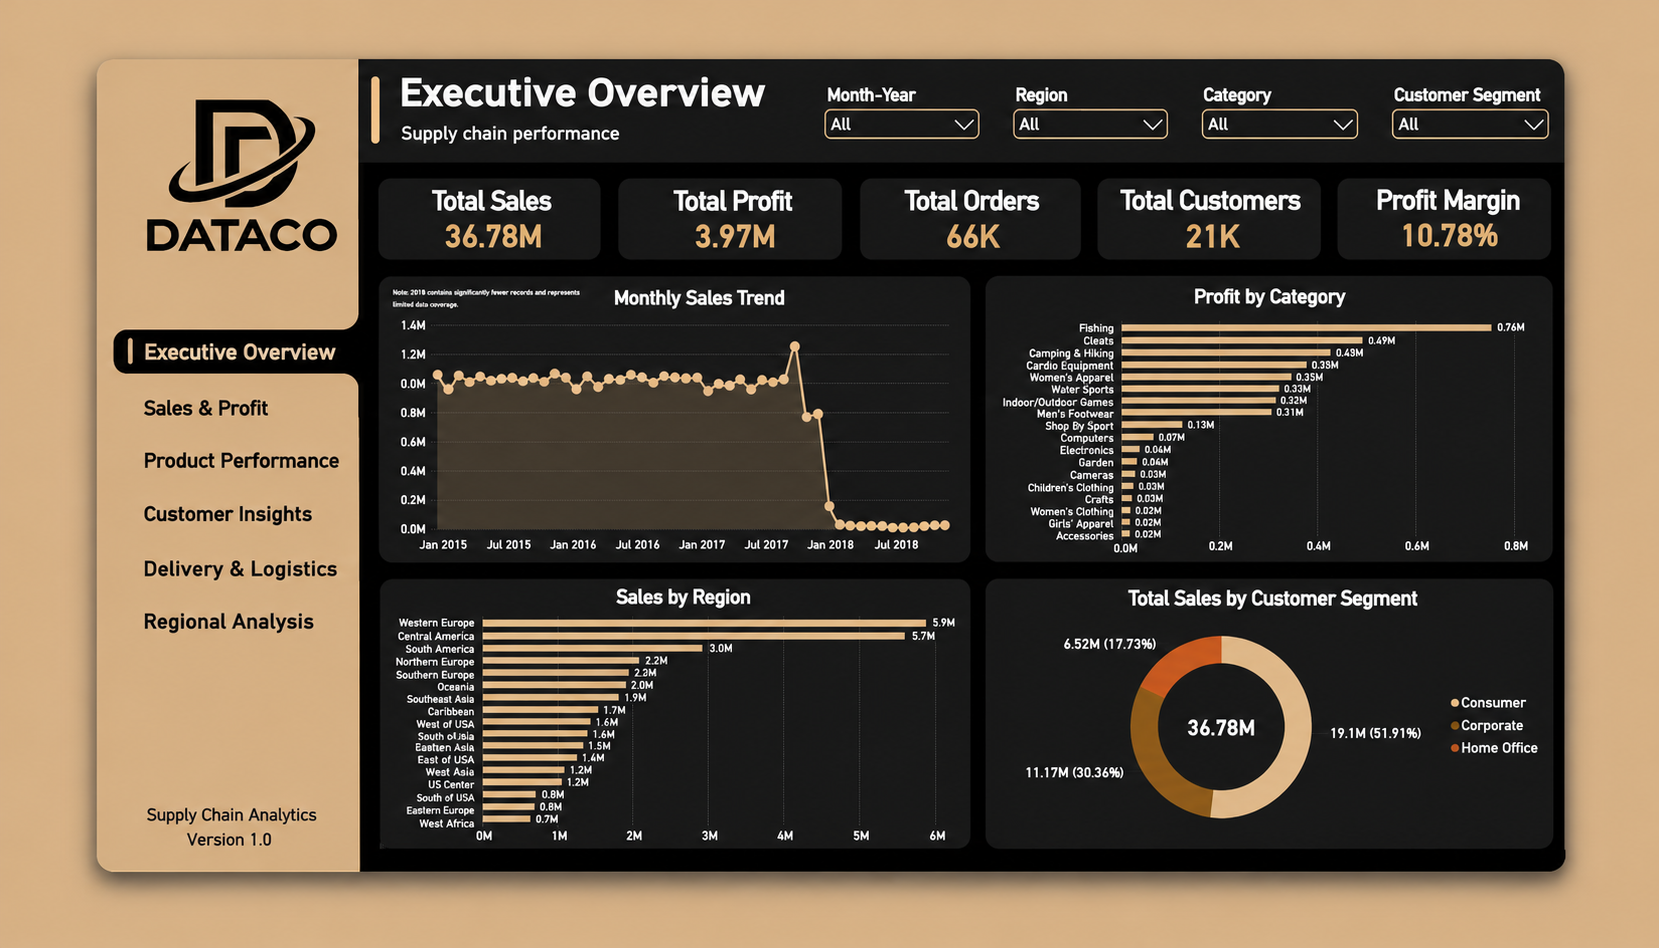

The page's visual inventory and layout, read from the dashboard file:
{"tool":"powerbi","page":{"name":"Executive Overview","canvas":[2560,1440],"ordinal":0},"visuals":[{"type":"shape","box":[0,0,520,1440],"z":0},{"type":"image","box":[34.2,63.2,450,294.7],"z":1000},{"type":"shape","box":[25.8,465,499.2,80],"z":2000},{"type":"textbox","box":[81.6,478.9,371.1,68.4],"z":3000},{"type":"textbox","box":[81.9,583.8,371.1,68.7],"z":4000},{"type":"textbox","box":[81.9,688.8,386.7,68.7],"z":5000},{"type":"textbox","box":[81.9,793.9,372.3,69.9],"z":6000},{"type":"textbox","box":[81.9,900.2,372.3,68.7],"z":7000},{"type":"textbox","box":[81.6,1005.3,371.1,68.4],"z":8000},{"type":"textbox","box":[101.8,1346.4,304.5,43.6],"z":9000},{"type":"textbox","box":[172.7,1387.3,157.3,50],"z":10000},{"type":"actionButton","box":[74.6,583.1,255.9,61],"z":11000},{"type":"actionButton","box":[78,678,376.2,71.4],"z":12000},{"type":"actionButton","box":[81.4,779.7,344.4,71.4],"z":13000},{"type":"actionButton","box":[78,898.3,376.2,71.4],"z":14000},{"type":"actionButton","box":[72.9,1001.7,352.4,71.4],"z":15000},{"type":"shape","box":[50,475.8,11.7,56.7],"z":16000},{"type":"image","box":[440,425.6,130,48.9],"z":17000},{"type":"image","box":[441.7,534.2,129.5,46.3],"z":18000},{"type":"shape","box":[520,0,2040,192.5],"z":19000},{"type":"textbox","box":[602.3,32.3,566.2,213.1],"z":20000},{"type":"shape","box":[553.3,38.9,16.7,115.6],"z":21000},{"type":"shape","box":[2249,87,282,52],"z":22000},{"type":"shape","box":[1921.4,86.4,277.9,52.1],"z":23000},{"type":"shape","box":[1591.4,86.4,277.9,52.1],"z":24000},{"type":"shape","box":[1260.8,87.5,278,52.5],"z":25000},{"type":"slicer","fields":{"Values":["supply_chain_ops dataco_cleaned.Customer Segment"]},"box":[2246.3,48.8,285,324.4],"z":26000},{"type":"slicer","fields":{"Values":["supply_chain_ops dataco_cleaned.Category Name"]},"box":[1920,48.8,280,322],"z":27000},{"type":"slicer","fields":{"Values":["supply_chain_ops dataco_cleaned.Order Region"]},"box":[1590,48.8,280,322],"z":28000},{"type":"slicer","fields":{"Values":["supply_chain_ops dataco_cleaned.Month-Year"]},"box":[1260,50,280,320],"z":29000},{"type":"textbox","box":[604.9,117.1,641.5,53.7],"z":30000},{"type":"cardVisual","fields":{"Data":["MeasureTable.Total Sales"]},"box":[550,230,370,130],"z":31000},{"type":"cardVisual","fields":{"Data":["MeasureTable.Total Profit"]},"box":[953.1,228.8,370,130],"z":32000},{"type":"cardVisual","fields":{"Data":["MeasureTable.Total Orders"]},"box":[1356.2,228.8,370,130],"z":33000},{"type":"cardVisual","fields":{"Data":["MeasureTable.Total Customers"]},"box":[1759.4,228.8,370,130],"z":34000},{"type":"cardVisual","fields":{"Data":["MeasureTable.Profit Margin"]},"box":[2162.5,227.5,370,130],"z":35000},{"type":"lineChart","title":"Monthly Sales Trend","fields":{"Category":["supply_chain_ops dataco_cleaned.order date (DateOrders).Variation.Date Hierarchy.Year","supply_chain_ops dataco_cleaned.order date (DateOrders).Variation.Date Hierarchy.Month"],"Y":["MeasureTable.Total Sales"]},"box":[550,400,988.3,498.3],"z":36000},{"type":"clusteredBarChart","title":"Sales by Region","fields":{"Category":["supply_chain_ops dataco_cleaned.Order Region"],"Y":["MeasureTable.Total Sales"]},"box":[550,932.5,987.5,477.5],"z":37000},{"type":"shape","box":[1502.5,1001.2,22.5,367.5],"z":38000},{"type":"donutChart","fields":{"Category":["supply_chain_ops dataco_cleaned.Customer Segment"],"Y":["MeasureTable.Total Sales"]},"box":[1577.5,935,942.5,475],"z":39000},{"type":"clusteredBarChart","title":"Profit by Category","fields":{"Category":["supply_chain_ops dataco_cleaned.Category Name"],"Y":["MeasureTable.Total Profit"]},"box":[1577.5,400,942.5,497.5],"z":40000},{"type":"shape","box":[2487.5,465,21.2,386.2],"z":41000},{"type":"textbox","box":[568.6,405.7,276.4,60.7],"z":42000}]}

Visuals, with their boxes in screenshot pixels (x1, y1, x2, y2), scaled from the page's 2560x1440 canvas onto the 1659x948 screenshot:
shape: x1=0, y1=0, x2=337, y2=947
image: x1=22, y1=42, x2=314, y2=236
shape: x1=17, y1=306, x2=340, y2=359
textbox: x1=53, y1=315, x2=293, y2=360
textbox: x1=53, y1=384, x2=294, y2=430
textbox: x1=53, y1=453, x2=304, y2=499
textbox: x1=53, y1=523, x2=294, y2=569
textbox: x1=53, y1=593, x2=294, y2=638
textbox: x1=53, y1=662, x2=293, y2=707
textbox: x1=66, y1=886, x2=263, y2=915
textbox: x1=112, y1=913, x2=214, y2=946
actionButton: x1=48, y1=384, x2=214, y2=424
actionButton: x1=51, y1=446, x2=294, y2=493
actionButton: x1=53, y1=513, x2=276, y2=560
actionButton: x1=51, y1=591, x2=294, y2=638
actionButton: x1=47, y1=659, x2=276, y2=706
shape: x1=32, y1=313, x2=40, y2=351
image: x1=285, y1=280, x2=369, y2=312
image: x1=286, y1=352, x2=370, y2=382
shape: x1=337, y1=0, x2=1658, y2=127
textbox: x1=390, y1=21, x2=757, y2=162
shape: x1=359, y1=26, x2=369, y2=102
shape: x1=1457, y1=57, x2=1640, y2=92
shape: x1=1245, y1=57, x2=1425, y2=91
shape: x1=1031, y1=57, x2=1211, y2=91
shape: x1=817, y1=58, x2=997, y2=92
slicer - supply_chain_ops dataco_cleaned.Customer Segment: x1=1456, y1=32, x2=1640, y2=246
slicer - supply_chain_ops dataco_cleaned.Category Name: x1=1244, y1=32, x2=1426, y2=244
slicer - supply_chain_ops dataco_cleaned.Order Region: x1=1030, y1=32, x2=1212, y2=244
slicer - supply_chain_ops dataco_cleaned.Month-Year: x1=817, y1=33, x2=998, y2=244
textbox: x1=392, y1=77, x2=808, y2=112
cardVisual - MeasureTable.Total Sales: x1=356, y1=151, x2=596, y2=237
cardVisual - MeasureTable.Total Profit: x1=618, y1=151, x2=857, y2=236
cardVisual - MeasureTable.Total Orders: x1=879, y1=151, x2=1119, y2=236
cardVisual - MeasureTable.Total Customers: x1=1140, y1=151, x2=1380, y2=236
cardVisual - MeasureTable.Profit Margin: x1=1401, y1=150, x2=1641, y2=235
"Monthly Sales Trend" lineChart: x1=356, y1=263, x2=997, y2=591
"Sales by Region" clusteredBarChart: x1=356, y1=614, x2=996, y2=928
shape: x1=974, y1=659, x2=988, y2=901
donutChart - supply_chain_ops dataco_cleaned.Customer Segment x MeasureTable.Total Sales: x1=1022, y1=616, x2=1633, y2=928
"Profit by Category" clusteredBarChart: x1=1022, y1=263, x2=1633, y2=591
shape: x1=1612, y1=306, x2=1626, y2=560
textbox: x1=368, y1=267, x2=548, y2=307
